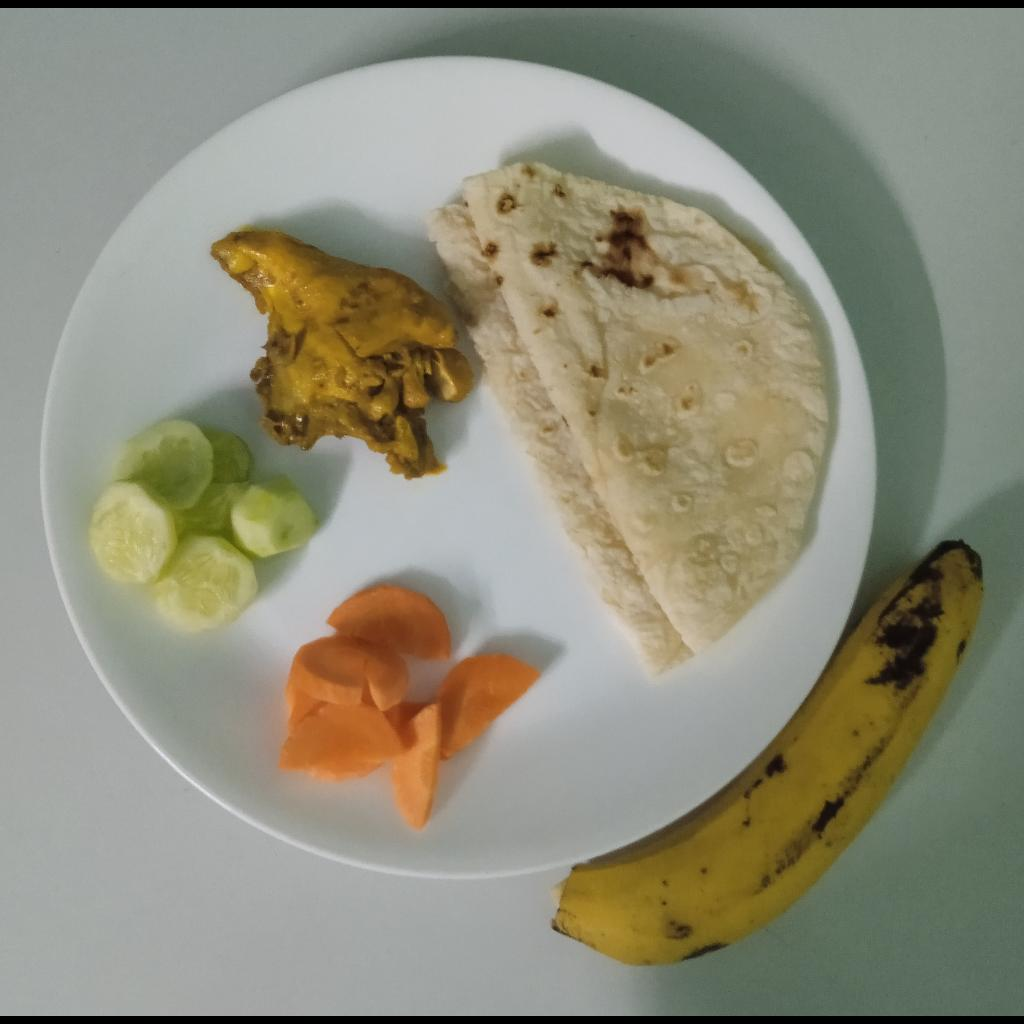banana: (545, 539, 992, 972)
carrot: (275, 586, 545, 836)
chicken: (208, 230, 471, 482)
cucumber: (81, 421, 322, 637)
ruti: (418, 161, 832, 685)
